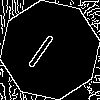I: (25, 25, 62, 70)
